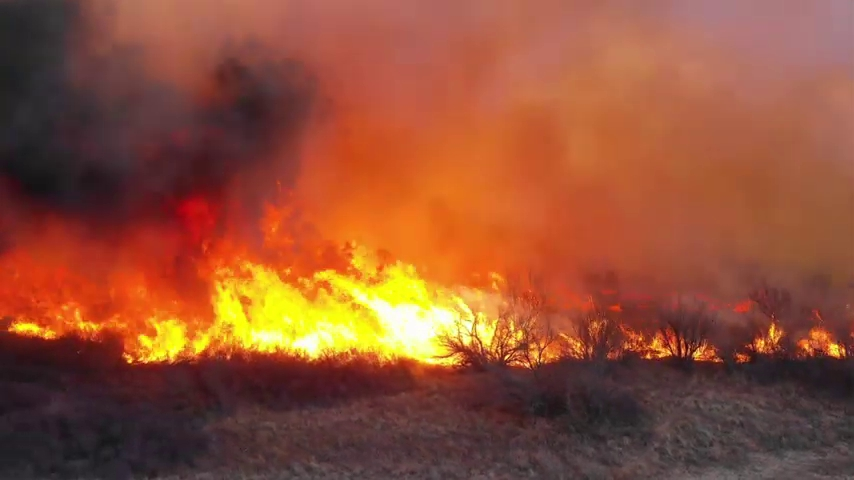forest_fire: (122, 262, 593, 368), (692, 323, 784, 362), (10, 310, 105, 338), (605, 327, 675, 358), (795, 327, 843, 357)
